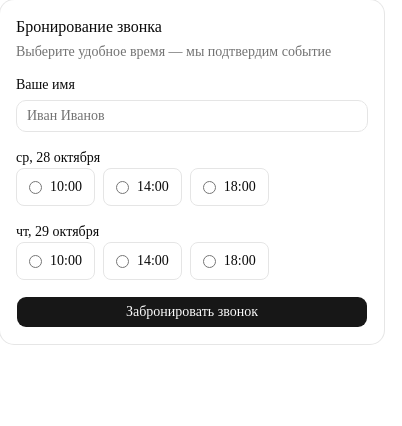
Test: shows errors when submitting without name and slot
Click the button "Забронировать звонок". click: (192, 312)
box: left=16, top=296, right=368, bottom=328
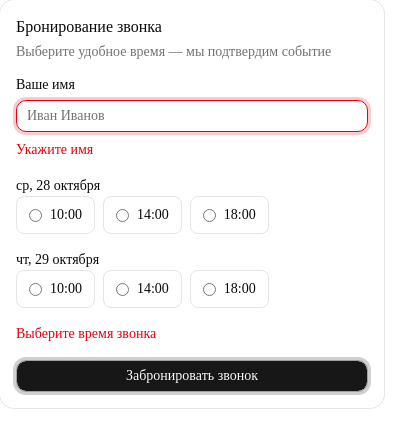
expect the text "Укажите имя" is shown: met, box left=16, top=142, right=93, bottom=157
expect the text "Выберите время звонка" is shown: met, box left=16, top=326, right=156, bottom=341
